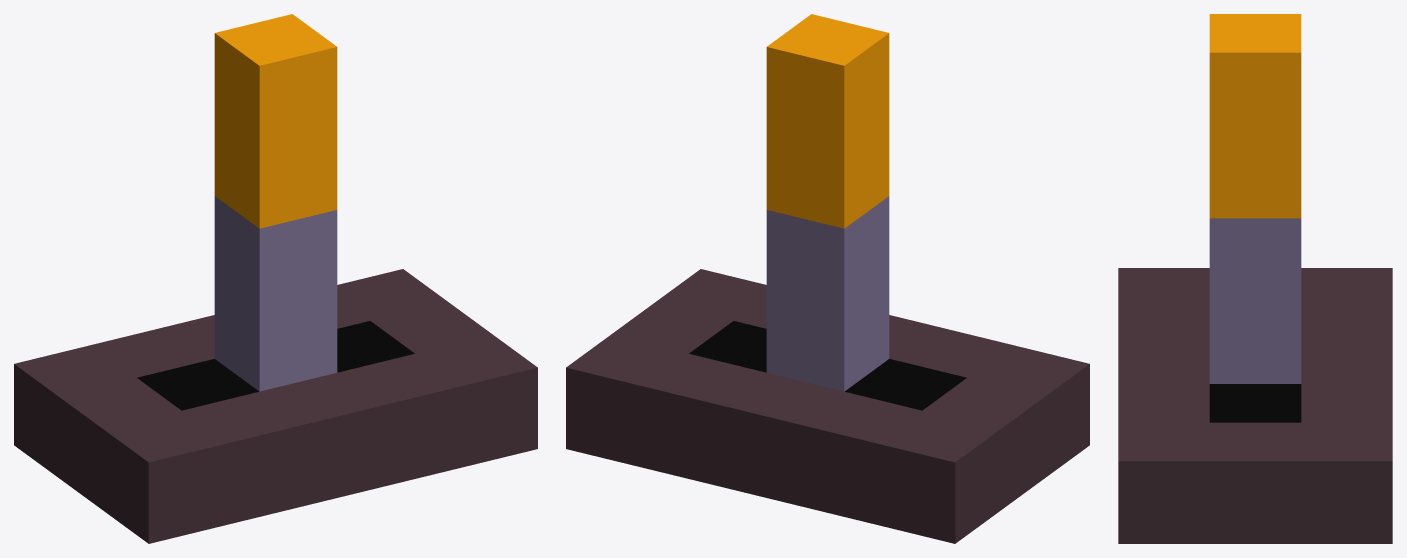
File: lever_b_b_yellow_off.obj
3 renders of one model, left to right at view 1: azimuth 30°, elevation 25°; view 2: azimuth 150°, elevation 25°; view 3: azimuth 270°, elevation 25°, orthographic.
Bounding box in the file's own units: 0.5 × 0.5 × 0.3.
1 material, 1 textured.
